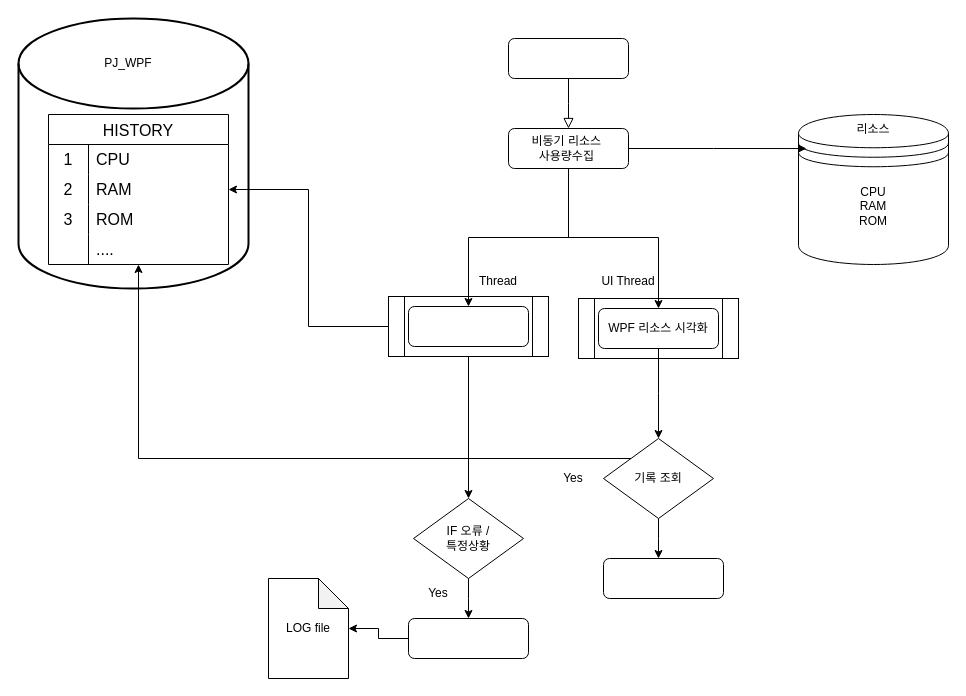
The diagram is 966 pixels wide and 696 high, and some of its shapes have lost their labels. Here are the shapes that lost their labels. From the top down, the centre of each, then its label:
(x=568, y=58): 프로그램 실행
(x=468, y=326): 일정 주기 DB 기록 저장
(x=663, y=578): 결과 출력
(x=468, y=638): 파일 IO로 기록 저장
